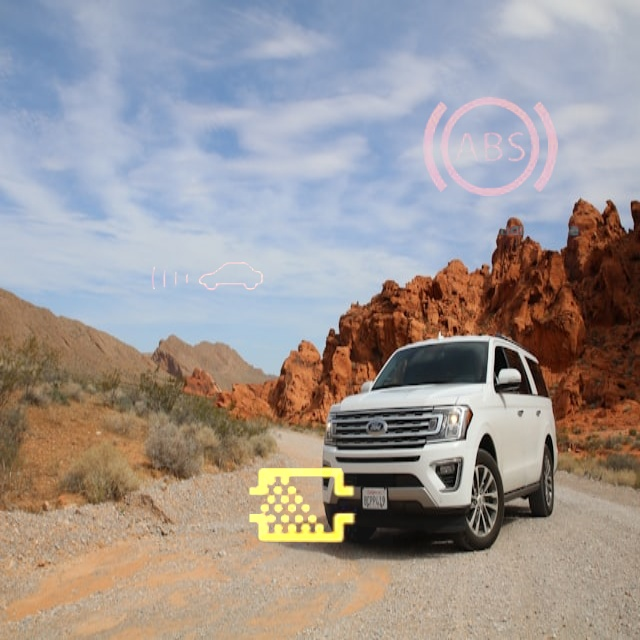symbol: (393, 52, 586, 245), (211, 415, 393, 597), (131, 203, 282, 354)
